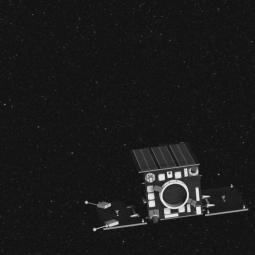proba_2: (76, 146, 255, 228)
